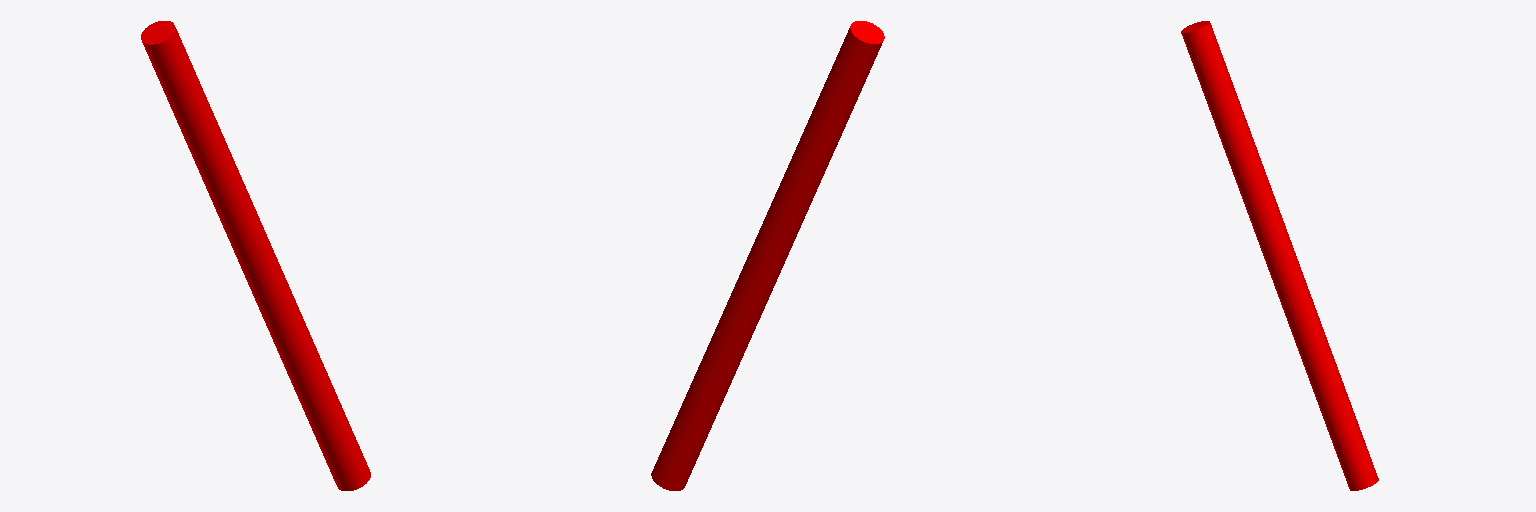
The robot description file, URDF, robot "tree_76.urdf":
<?xml version='1.0' encoding='utf-8'?>
<robot name="tree_76.urdf">
  <link name="branch_0">
    <inertial>
      <origin xyz="0.0 0.0 0.0" rpy="0.0 -0.0 0.0" />
      <mass value="1.0" />
      <inertia ixx="1.0" ixy="0.0" ixz="0.0" iyy="1.0" iyz="0.0" izz="1.0" />
    </inertial>
    <visual name="branch_0_visual">
      <geometry>
        <cylinder radius="0.06707193787637755" length="2.1695978999947325" />
      </geometry>
      <material name="semantic_material" />
      <origin xyz="-0.4177288258171575 -0.008292699219528054 1.00111069374793" rpy="8.671908762350149e-19 0.3953711703130929 -3.1217433887339436" />
    </visual>
    <collision name="branch_0_collision">
      <geometry>
        <cylinder radius="0.06707193787637755" length="2.1695978999947325" />
      </geometry>
      <origin xyz="-0.4177288258171575 -0.008292699219528054 1.00111069374793" rpy="8.671908762350149e-19 0.3953711703130929 -3.1217433887339436" />
    </collision>
  </link>
  <material name="semantic_material">
    <color rgba="1. 0. 0. 1." />
  </material>
</robot>

--- Facts derived from the render (not from the file) ---
The picture shows the robot from 3 angles, left to right: view 1: azimuth 30°, elevation 25°; view 2: azimuth 150°, elevation 25°; view 3: azimuth 330°, elevation 25°; orthographic projection.
Robot: tree_76.urdf — 1 links, 0 joints (none); root link branch_0; default pose: every joint at zero.
Links seen in each view (by area): view 1: branch_0; view 2: branch_0; view 3: branch_0.
Link boxes in pixels (bbox=[...]): branch_0: bbox=[141, 21, 370, 490]; branch_0: bbox=[651, 21, 884, 490]; branch_0: bbox=[1181, 21, 1378, 490].
Size in the robot's own frame: 0.9592 by 0.1507 by 2.05 metres.
Geometry: primitives only (box / cylinder / sphere), no mesh files.